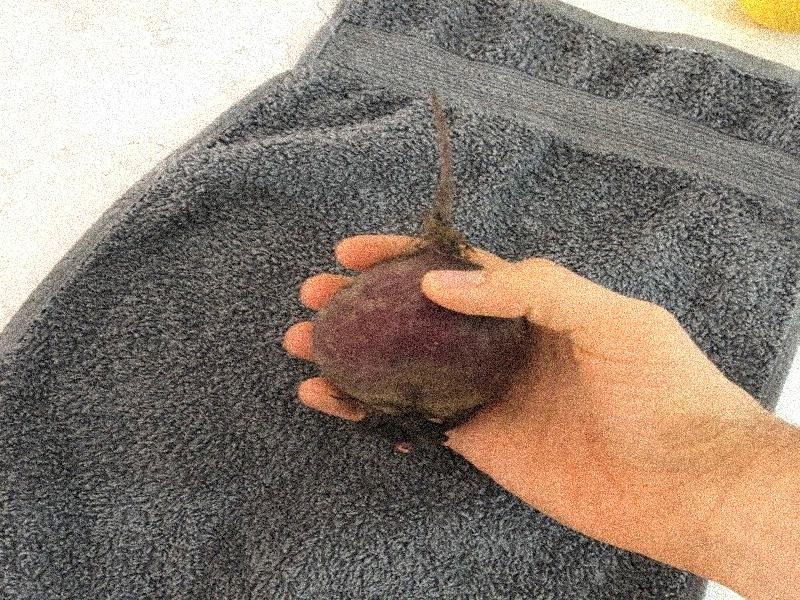Beet: (309, 88, 528, 443)
